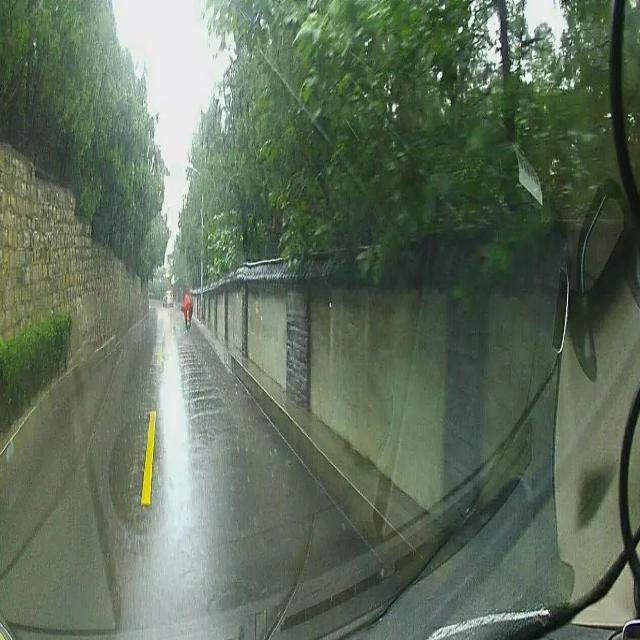car: (162, 286, 172, 306)
